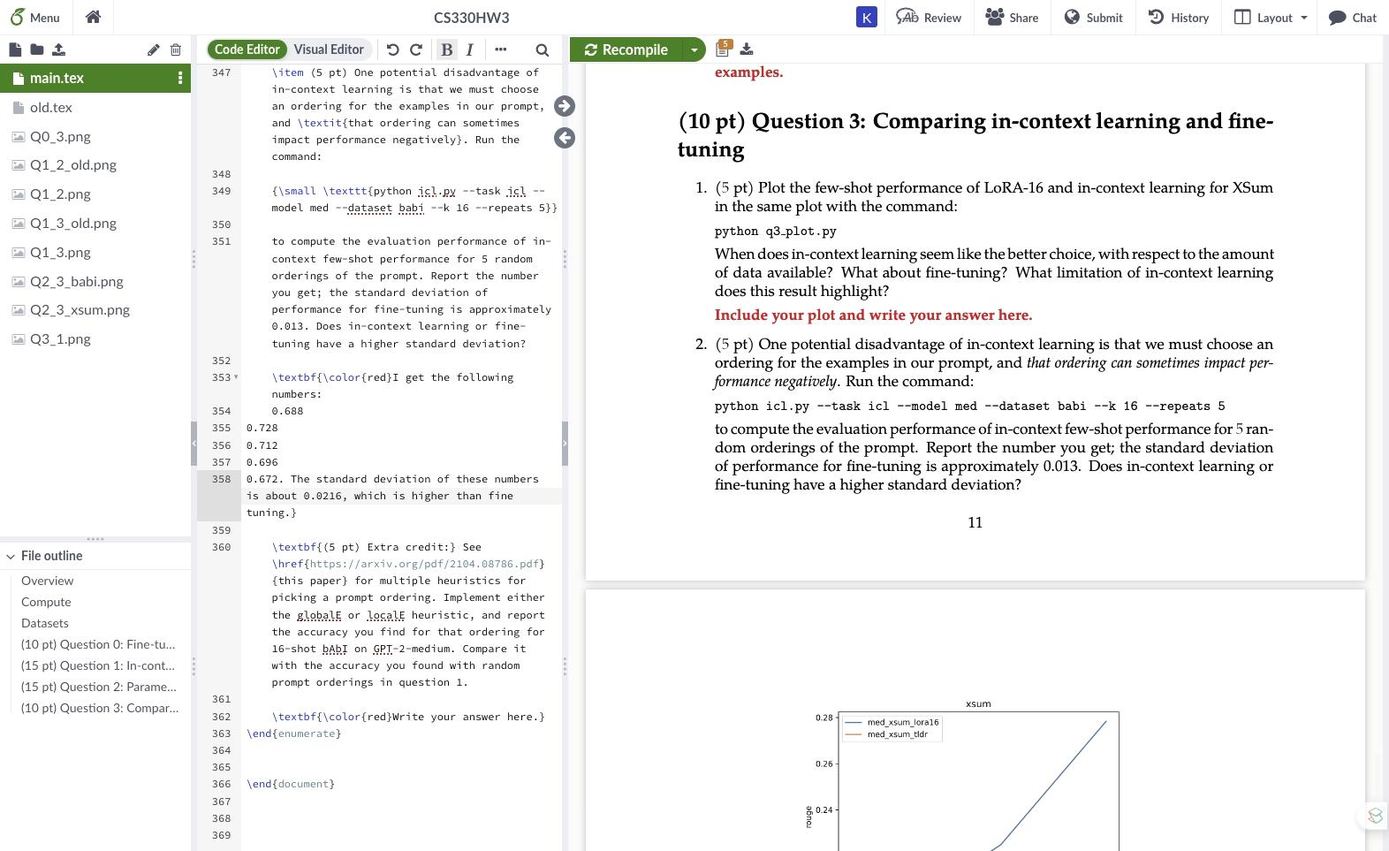webelement: (567, 63, 1382, 850), (585, 589, 1364, 851), (0, 63, 190, 536), (0, 0, 1388, 34), (0, 569, 185, 718), (567, 34, 1382, 63), (677, 110, 1272, 133), (695, 179, 1273, 194), (695, 336, 1273, 351), (714, 246, 1273, 261), (714, 9, 1272, 24), (714, 27, 1272, 42), (714, 46, 1272, 61), (714, 264, 1272, 279), (714, 421, 1272, 436), (714, 439, 1272, 454), (714, 458, 1272, 473), (714, 398, 1225, 412), (0, 149, 190, 179), (0, 323, 190, 353), (0, 63, 190, 92), (0, 92, 190, 121), (0, 121, 190, 150), (0, 179, 190, 208), (0, 208, 190, 237), (0, 237, 190, 266), (0, 266, 190, 295), (0, 294, 190, 323), (0, 542, 190, 568), (714, 307, 1032, 322), (714, 354, 1021, 369), (714, 476, 1021, 491), (0, 590, 185, 612), (0, 696, 185, 718), (0, 569, 185, 590), (0, 612, 185, 633), (0, 633, 185, 654), (0, 654, 185, 675), (0, 675, 185, 696), (1026, 354, 1272, 369), (714, 198, 957, 213), (1220, 0, 1315, 34), (309, 556, 538, 569), (428, 0, 514, 33), (714, 283, 888, 298), (836, 373, 973, 388), (714, 373, 836, 388), (430, 39, 517, 59), (714, 223, 836, 237), (29, 300, 129, 316), (29, 271, 123, 288), (286, 39, 370, 58), (207, 39, 286, 58), (29, 213, 116, 230), (677, 138, 744, 160), (72, 0, 114, 34), (29, 155, 116, 171), (602, 40, 667, 57), (29, 126, 90, 143), (29, 184, 90, 201), (29, 242, 90, 259), (29, 329, 90, 346), (714, 65, 783, 80), (29, 68, 83, 85), (277, 573, 341, 586), (277, 726, 335, 739), (436, 43, 497, 55), (29, 97, 72, 114), (1171, 8, 1209, 26), (277, 776, 329, 789), (923, 8, 960, 26), (1086, 8, 1122, 26), (1256, 8, 1292, 26), (270, 13, 315, 27), (270, 369, 315, 383), (270, 539, 315, 552), (270, 709, 315, 722), (682, 36, 705, 61), (296, 115, 340, 128), (322, 183, 366, 196), (347, 200, 391, 213), (296, 607, 340, 620), (29, 8, 59, 26), (322, 13, 360, 27), (322, 369, 360, 383), (1009, 8, 1038, 26), (277, 183, 315, 196), (366, 607, 404, 620), (322, 709, 360, 722), (855, 5, 877, 27), (710, 38, 732, 59), (735, 38, 757, 59), (553, 126, 574, 148), (382, 38, 403, 59), (405, 38, 426, 59), (436, 38, 457, 59), (459, 38, 480, 59), (490, 38, 511, 59), (531, 38, 552, 59), (553, 95, 574, 116), (1352, 8, 1376, 26), (270, 65, 302, 78), (270, 556, 302, 569), (398, 200, 423, 213), (322, 641, 347, 654), (246, 726, 271, 739), (246, 776, 271, 789), (561, 421, 567, 465), (190, 421, 196, 465), (506, 183, 526, 196), (417, 183, 436, 196), (373, 641, 392, 654), (967, 514, 982, 529), (717, 38, 732, 49), (443, 183, 455, 196), (230, 368, 239, 384), (315, 13, 322, 27), (315, 369, 322, 383), (270, 183, 277, 196), (550, 200, 557, 213), (315, 539, 322, 552), (270, 573, 277, 586), (315, 709, 322, 722), (270, 726, 277, 739), (270, 776, 277, 789), (360, 13, 366, 27), (385, 13, 391, 27), (360, 369, 366, 383), (385, 369, 391, 383), (417, 30, 423, 43), (341, 115, 347, 128), (455, 132, 461, 145), (366, 183, 372, 196), (544, 200, 550, 213), (290, 505, 296, 518), (449, 539, 455, 552), (302, 556, 308, 569), (538, 556, 544, 569), (341, 573, 347, 586), (360, 709, 366, 722), (385, 709, 391, 722), (538, 709, 544, 722), (334, 726, 340, 739), (328, 776, 334, 789), (1021, 354, 1026, 369), (102, 1, 103, 2), (23, 41, 24, 42), (44, 41, 45, 42), (66, 41, 67, 42), (161, 41, 162, 42), (183, 41, 184, 42), (180, 68, 181, 69), (391, 49, 392, 49), (414, 49, 415, 49), (445, 49, 446, 49), (468, 49, 469, 49), (542, 49, 543, 49)
